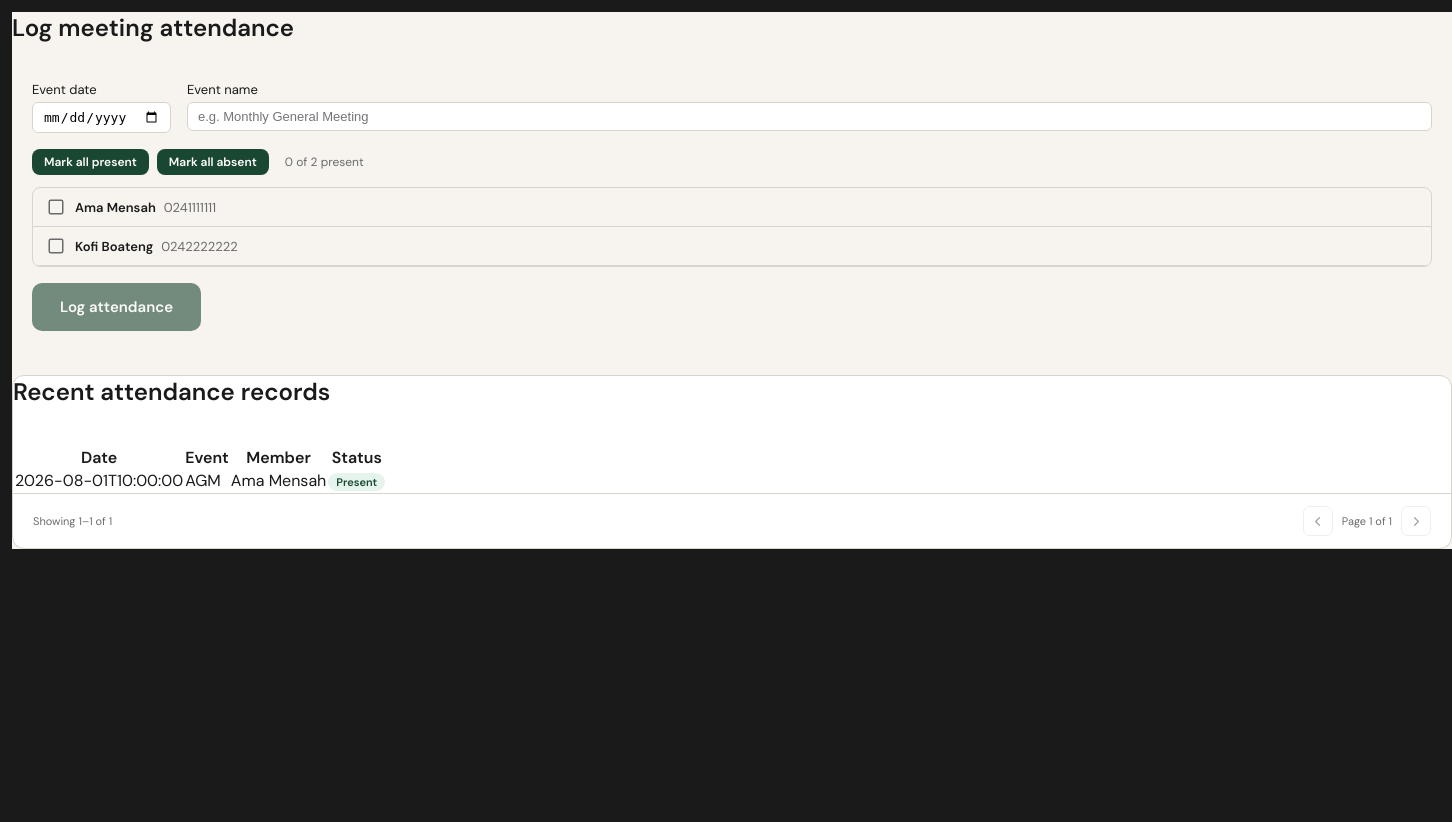
Scenario: CooperativeAttendance › records a meeting for every member, then refreshes and notifies the dashboard
The width and height of the screenshot is (1452, 822).
Expected: the text "AGM" is shown, [185,470,229,491]
In the date field labelled "Event date": point(102, 118) [32,102,171,133], type "2026-09-20"
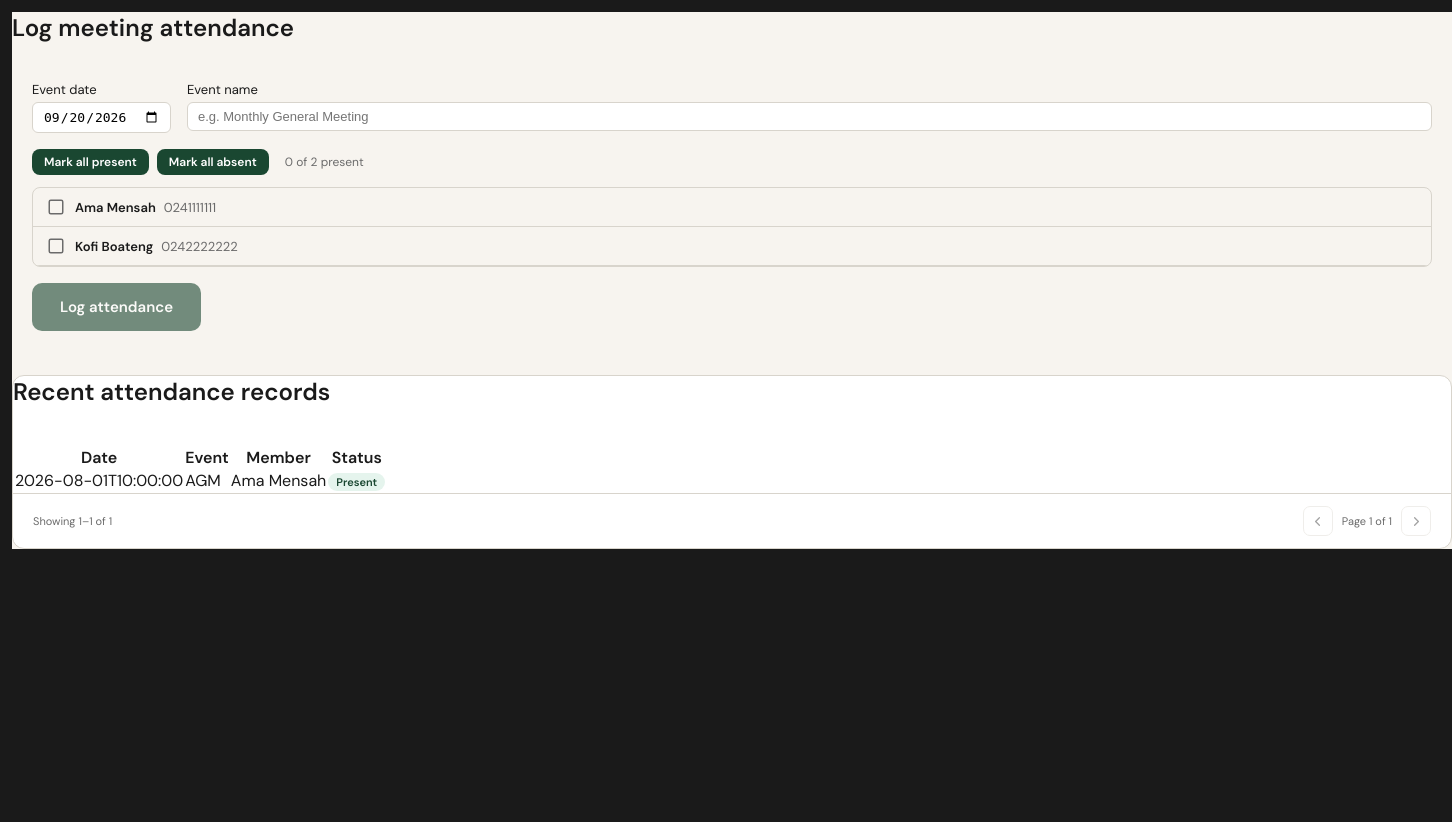
In the field labelled "Event name": point(810, 116) [187,102,1432,131], type "Monthly General Meeting"
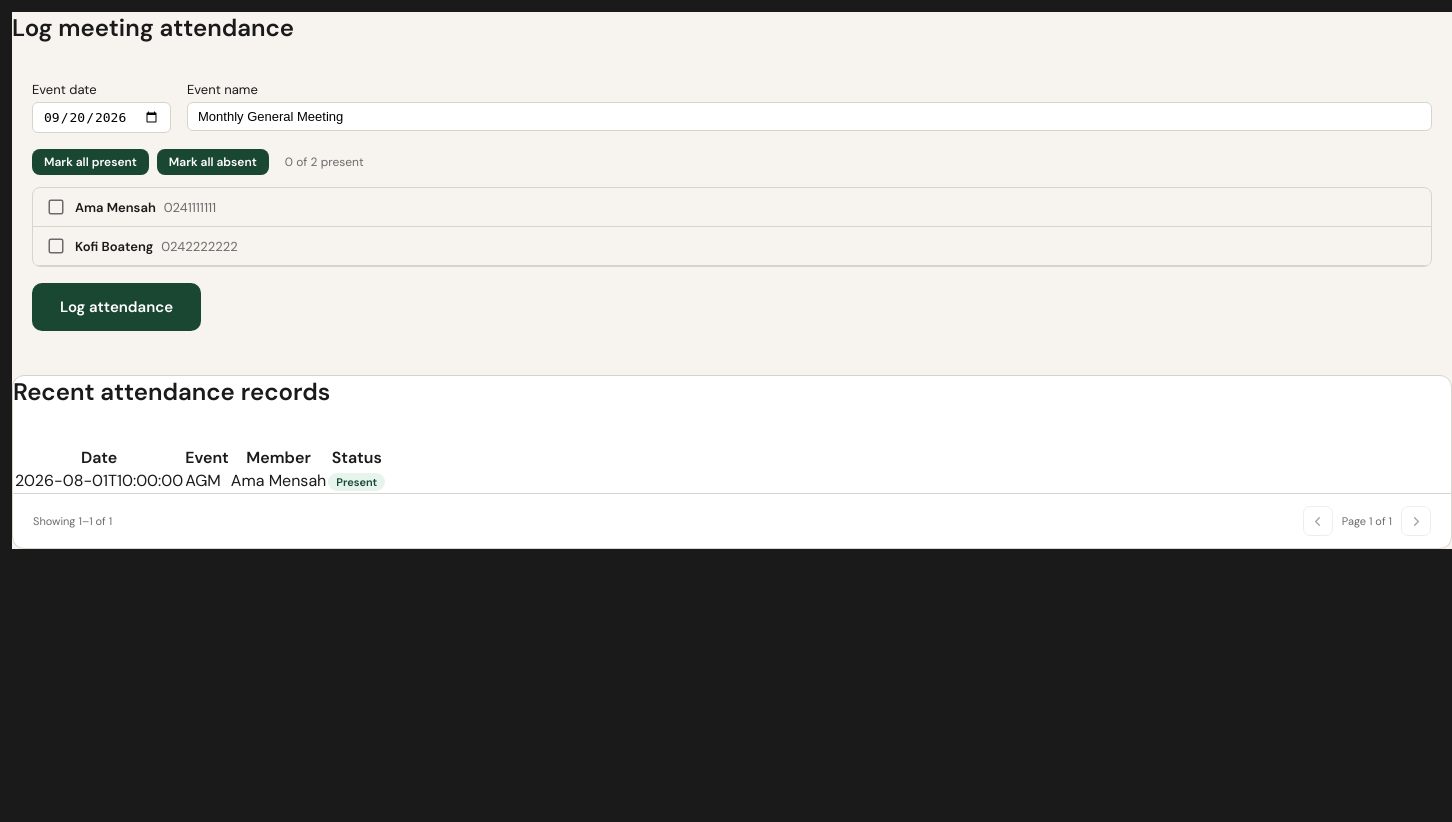
Click the checkbox labelled "Ama Mensah0241111111": point(115, 207) [33,188,1431,227]
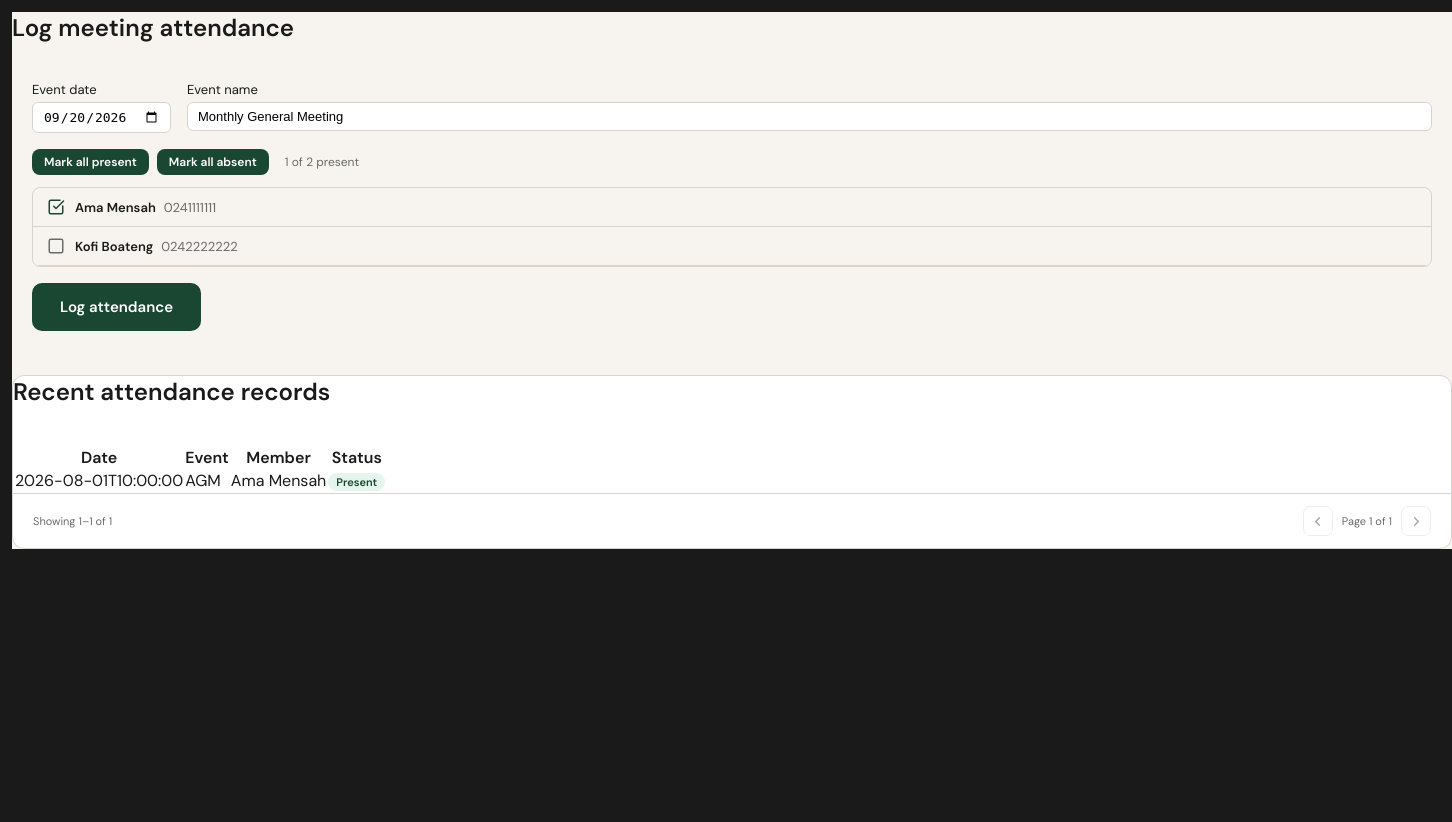
Result: the text "1 of 2 present" is shown at [285,154,359,170]
Click the button "Log attendance": point(116, 307) [32,283,201,331]
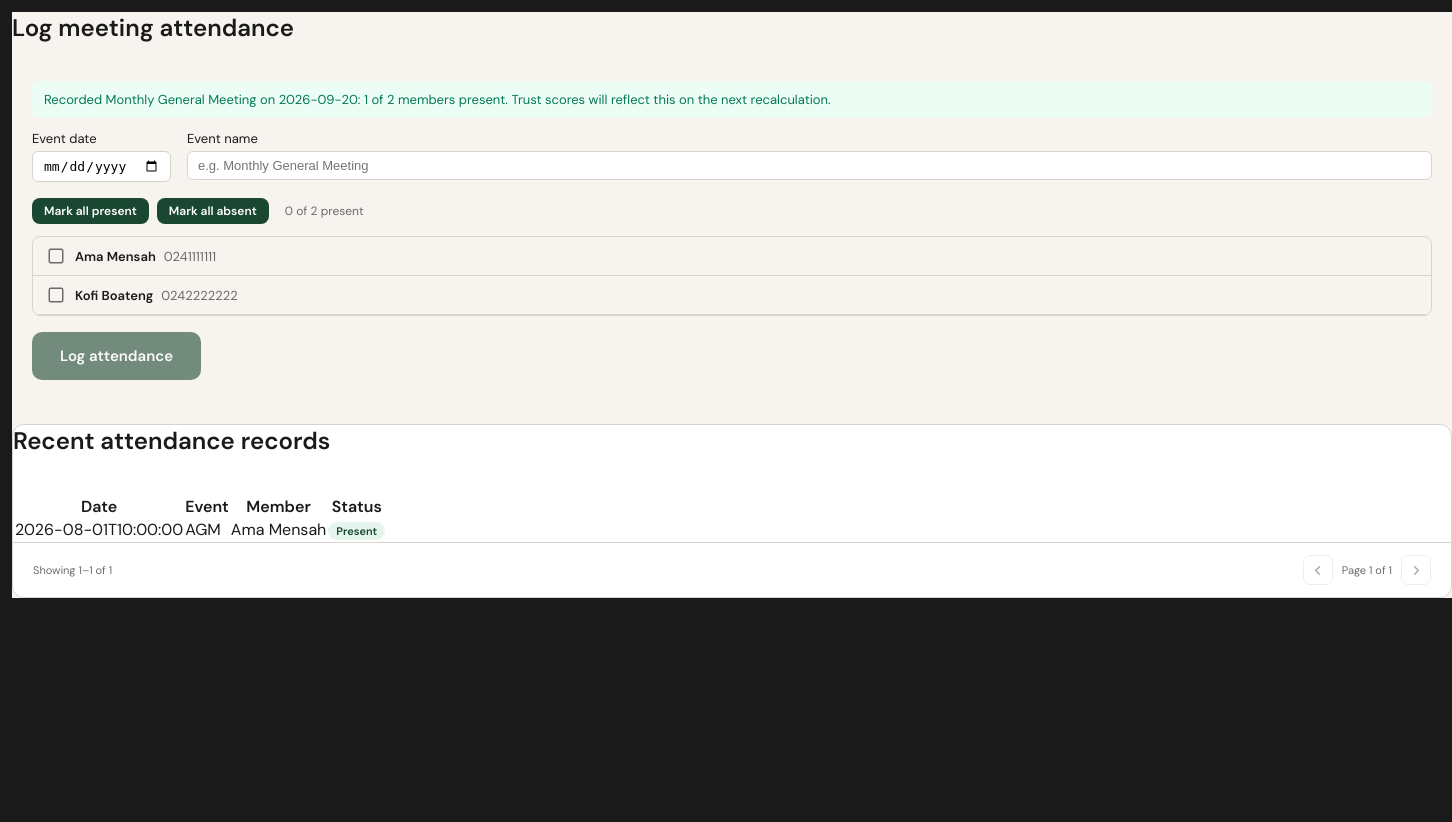
Result: the message is shown at [32,81,1432,118]
Result: the message shows "1 of 2 members present" at [44,91,831,108]
Result: the field labelled "Event name" is empty at [187,151,1432,180]
